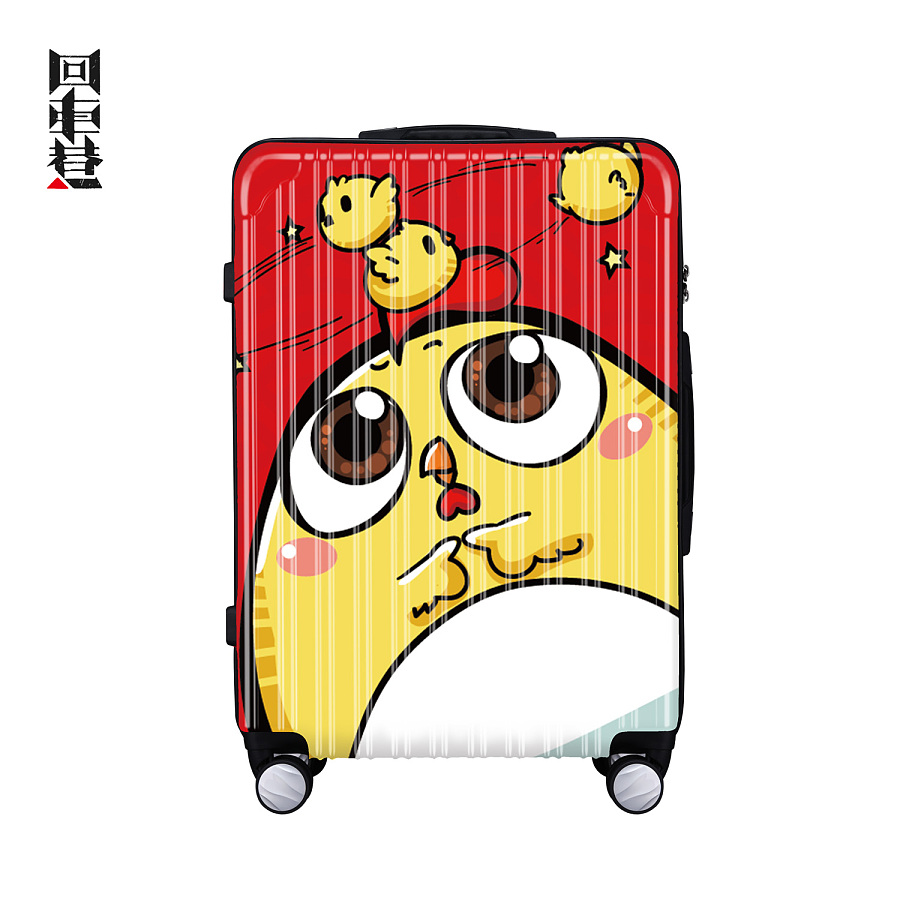luggage: (220, 123, 698, 814)
